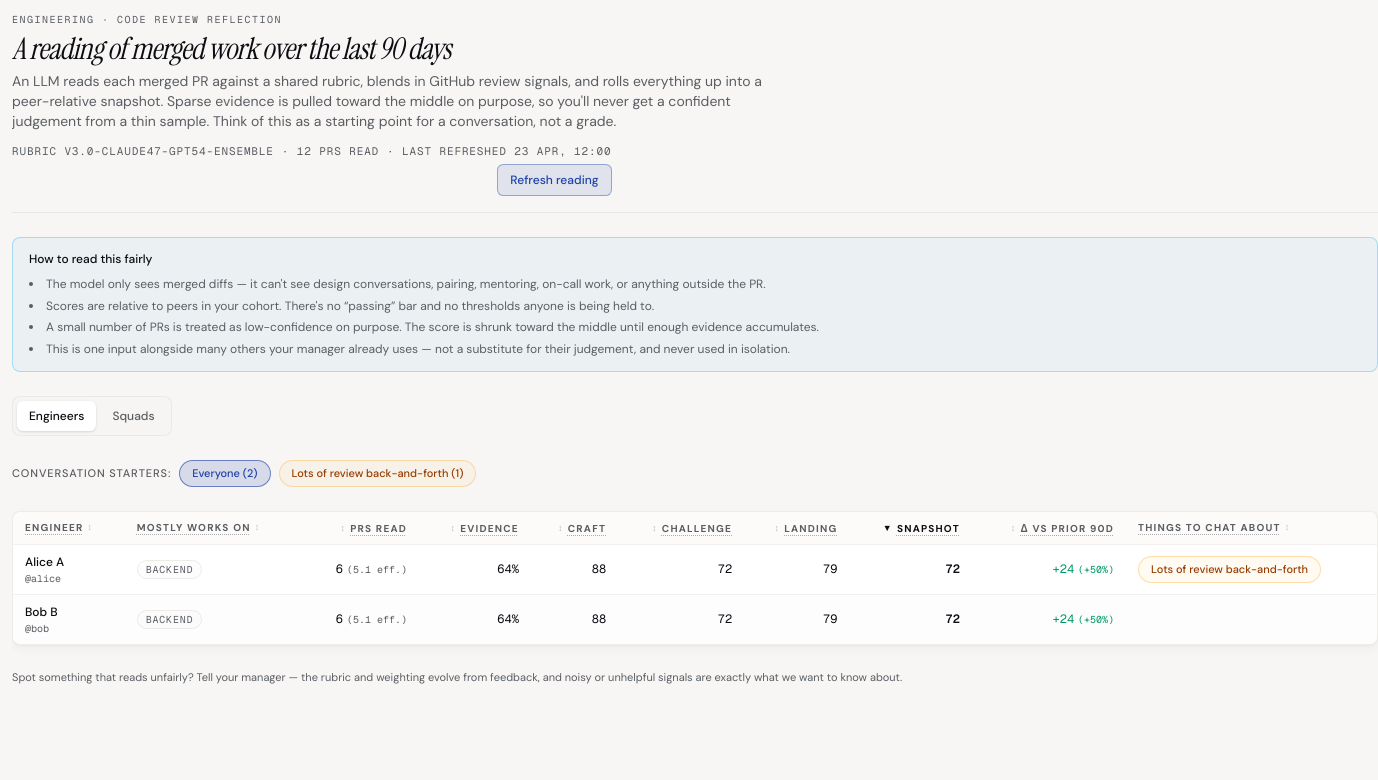
<CodeReviewReport /> › filters to engineers that match the selected conversation starter
Expected: the text "Bob B" is shown, [25,604,58,620]
Click the button "Lots of review back-and-forth (1)" at (377,473), box [278,460,476,486]
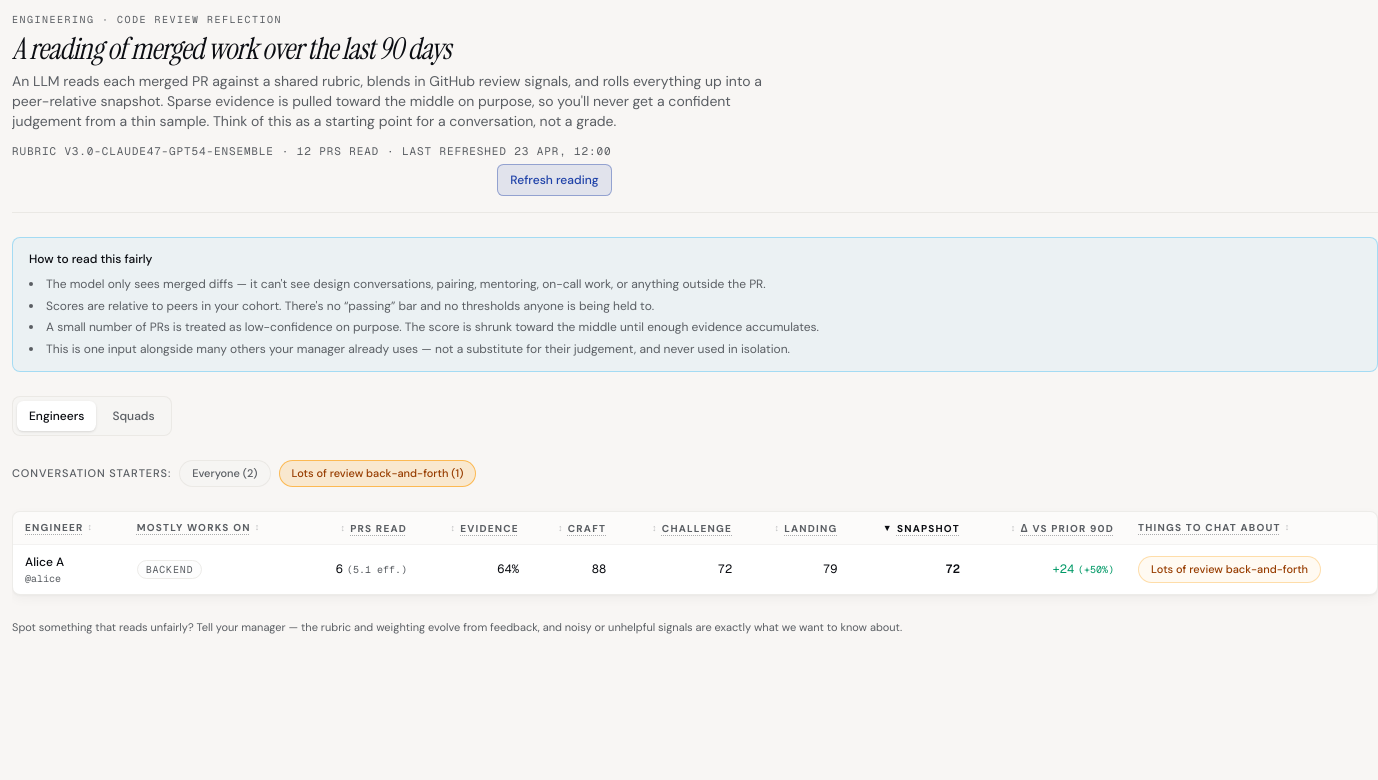
Expected: the text "Alice A" is shown, [25,554,64,570]
Now the text "Bob B" is gone
